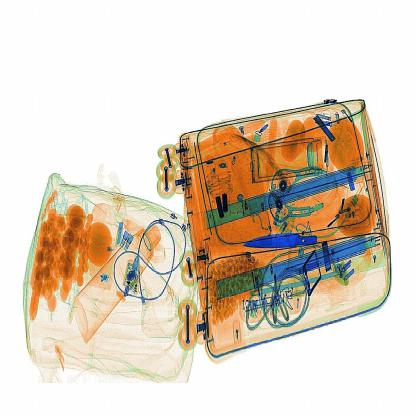wrench: (236, 225, 346, 252)
